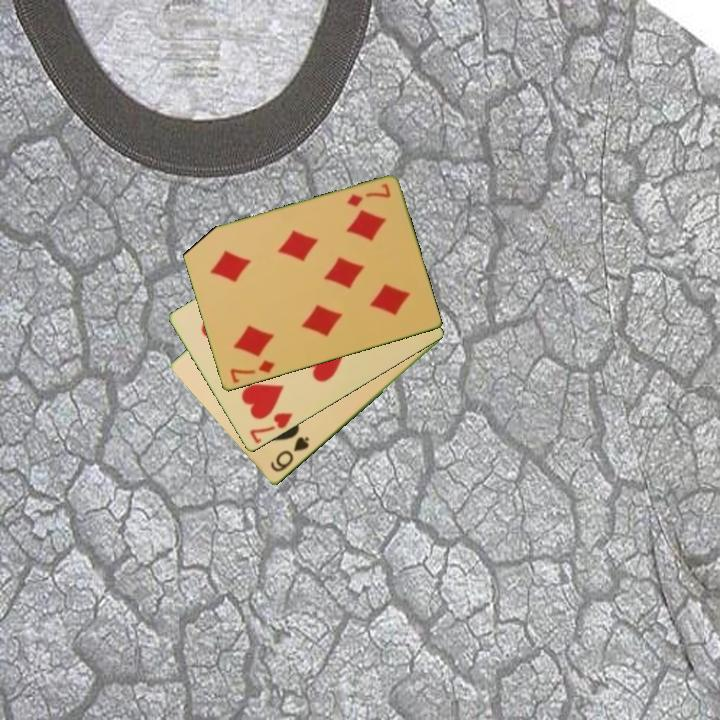6s: (267, 433, 312, 475)
7d: (226, 357, 278, 386), (343, 180, 393, 210)
7h: (246, 409, 296, 447)
